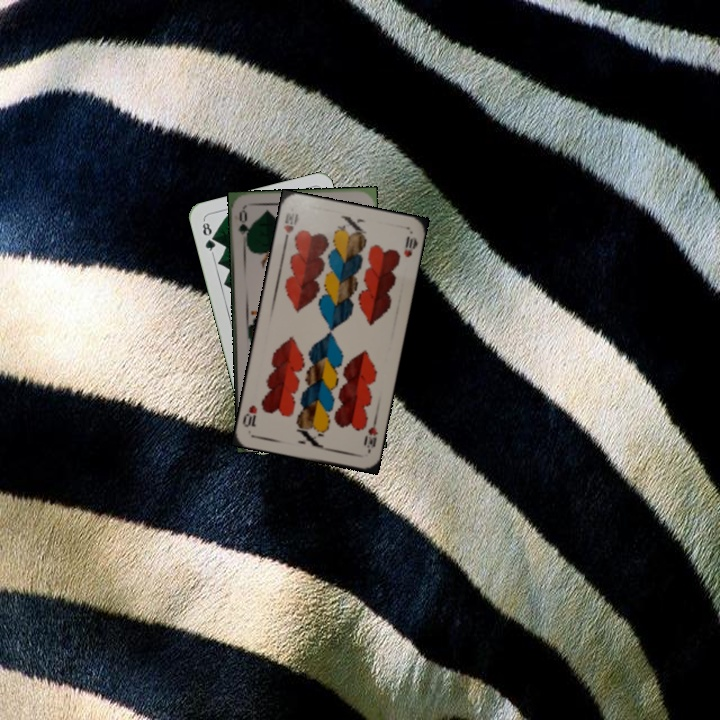G8: (198, 217, 218, 257)
GO: (234, 206, 252, 247)
H10: (359, 415, 380, 456), (279, 208, 301, 247)
